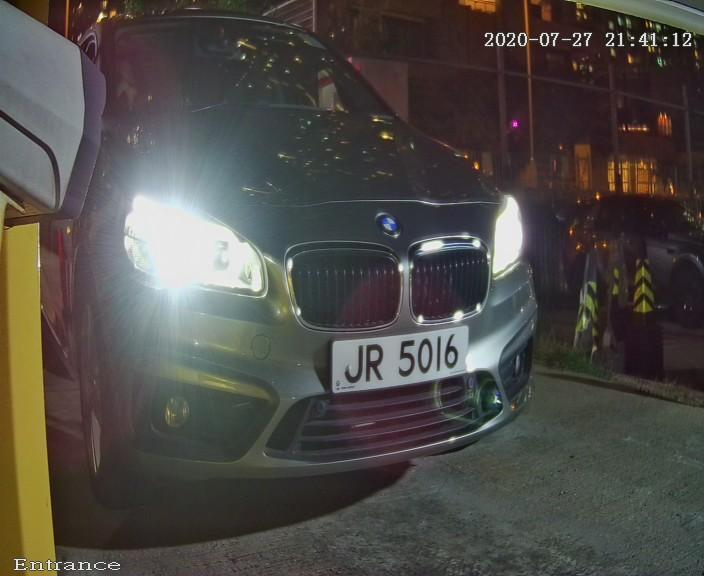privatecar: (48, 6, 579, 528)
